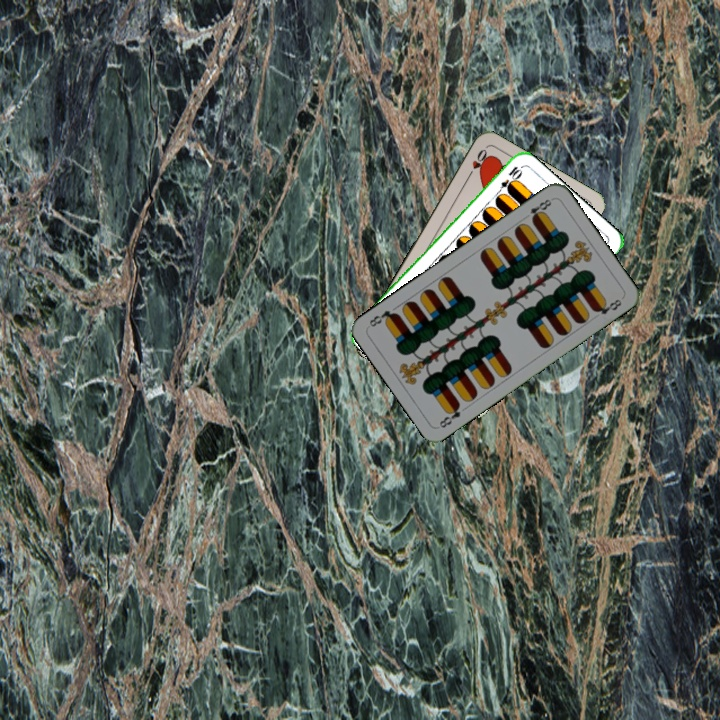E10: (492, 162, 524, 198)
E8: (519, 195, 555, 224), (435, 399, 464, 431)
HO: (463, 145, 490, 181)
